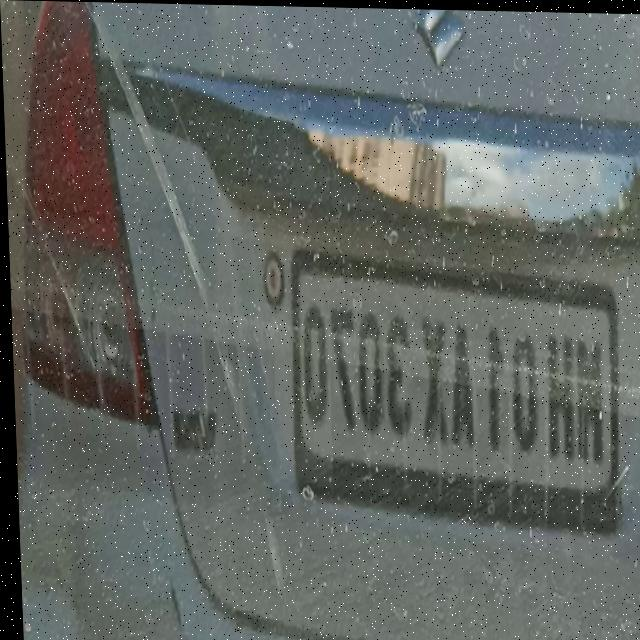plate: (289, 249, 621, 505)
